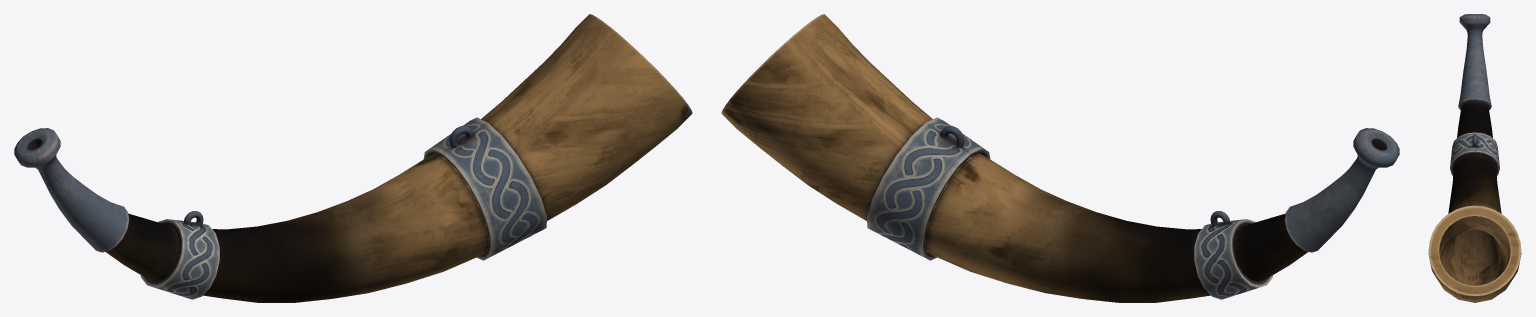
File: viking_horn.glb
3 views of the same model, side by side, from view 1: azimuth 30°, elevation 25°; view 2: azimuth 150°, elevation 25°; view 3: azimuth 270°, elevation 25° (orthographic). The views are drawn at different scales.
Visible parts, largest first — view 1: Object_2; view 2: Object_2; view 3: Object_2.
Part boxes in pixels (<box>): Object_2: <box>14,14,692,302</box>; Object_2: <box>721,14,1399,302</box>; Object_2: <box>1428,14,1521,302</box>.
Bounding box in the file's own units: 80.49 × 27.28 × 15.22.
1 material, 1 textured.
